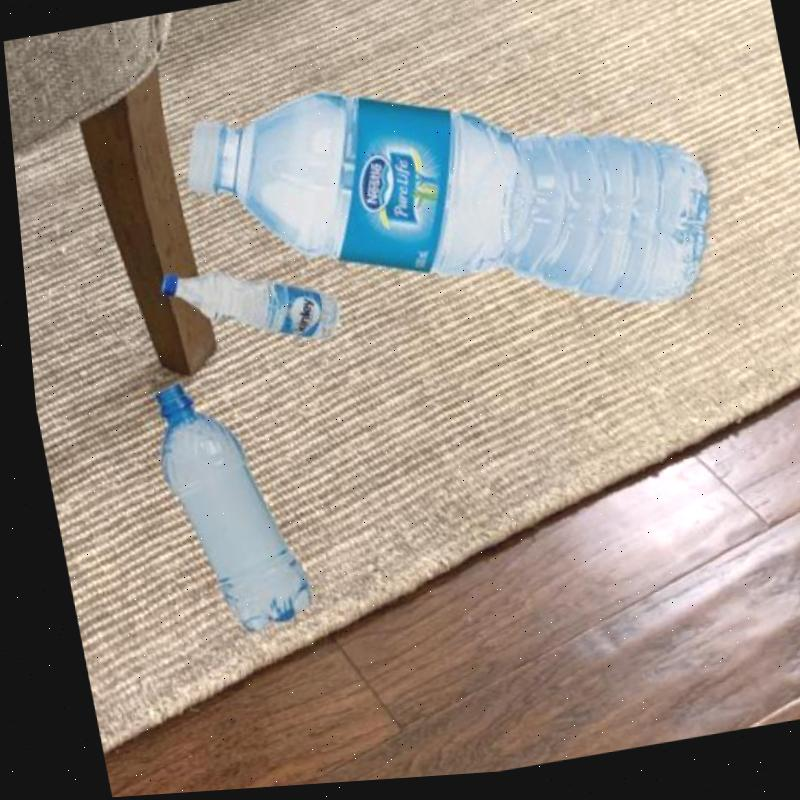botella: (164, 39, 730, 388), (137, 368, 305, 644), (151, 251, 340, 372)
